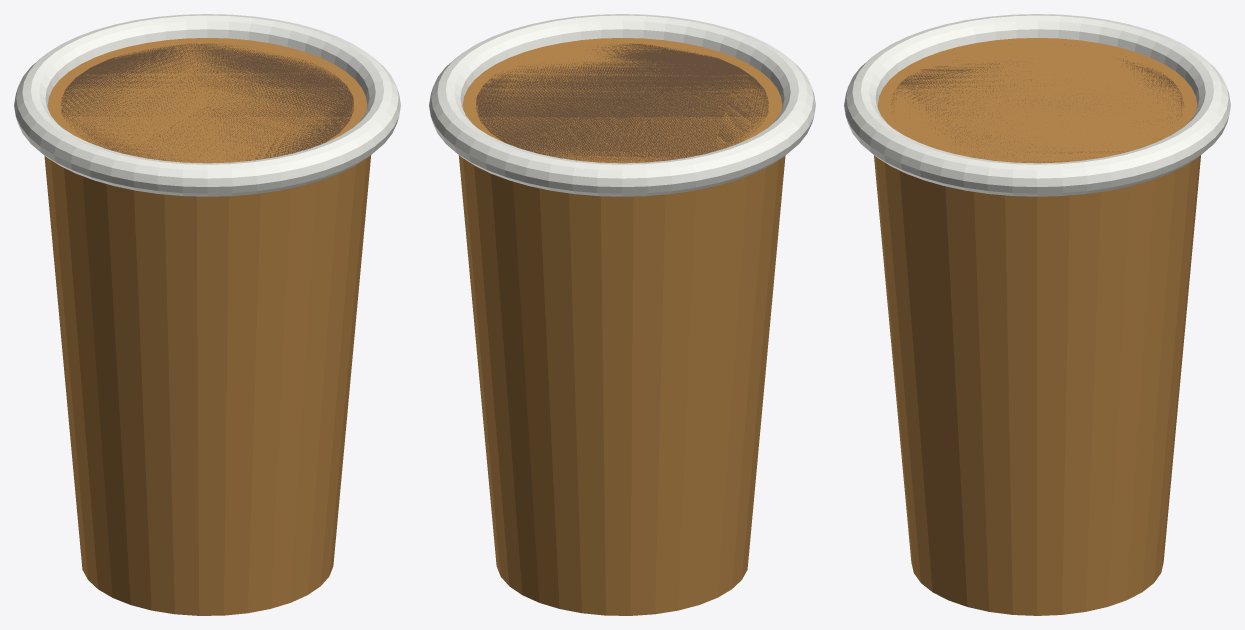
File: coffee_cup.glb
The picture shows the model from 3 angles, left to right: view 1: azimuth 30°, elevation 25°; view 2: azimuth 150°, elevation 25°; view 3: azimuth 270°, elevation 25°; orthographic projection.
Parts seen in each view (by area): view 1: CoffeeCup; view 2: CoffeeCup; view 3: CoffeeCup.
Part boxes in pixels (x1,y1,x2,y2): CoffeeCup: [14, 14, 400, 615]; CoffeeCup: [429, 14, 815, 615]; CoffeeCup: [844, 14, 1230, 615].
Size of the model in its own units: 0.092 by 0.124 by 0.092.
